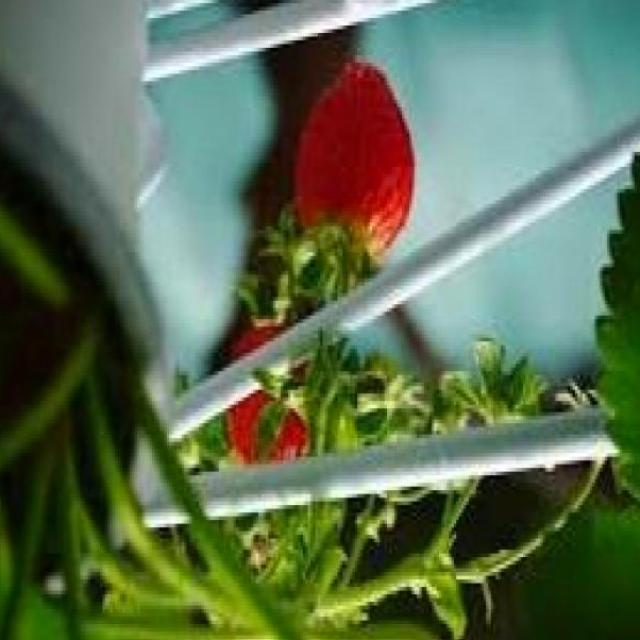Healthy Fruit: (293, 62, 417, 242)
